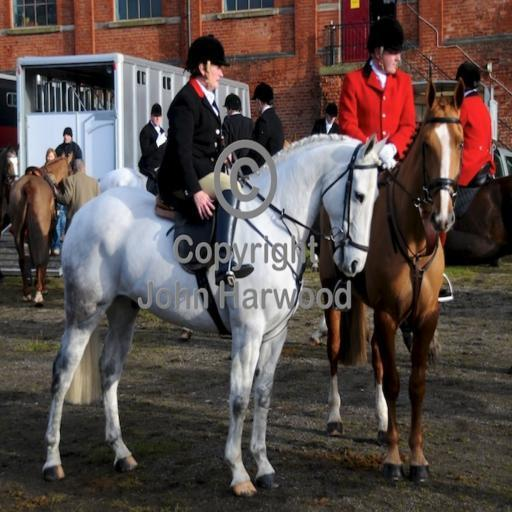horse: (40, 131, 392, 498), (315, 74, 467, 485), (9, 151, 73, 309), (438, 173, 512, 265), (0, 141, 19, 202)
